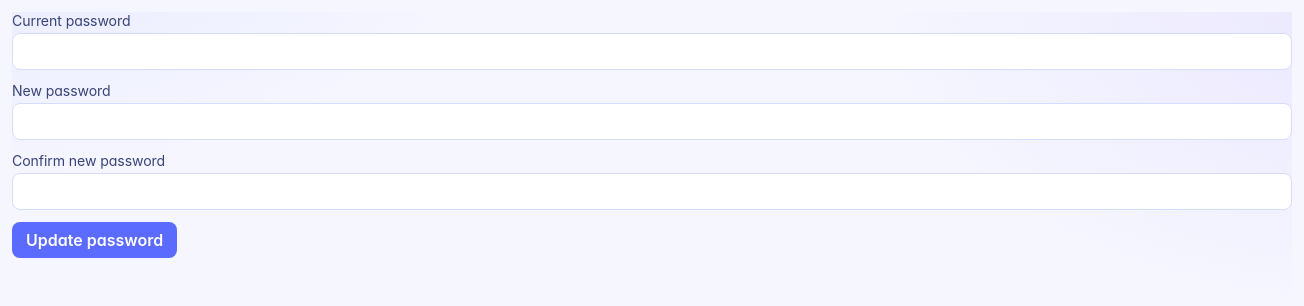
Test: PasswordChangeForm › surfaces 429 as a wait-and-retry message
This screenshot has width=1304, height=306.
Type "password" into the password field labelled "Current password".
click(652, 52); type("password")  # box [12, 33, 1292, 70]
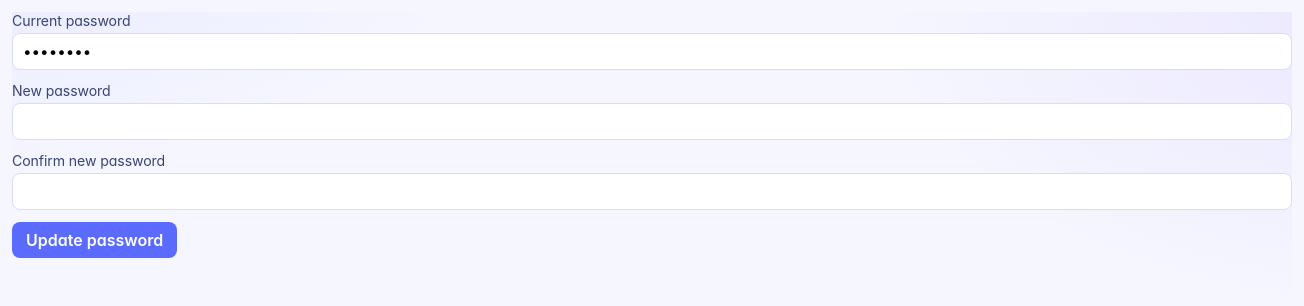
Type "new-strong-password-1" into the password field labelled "New password".
click(652, 122); type("new-strong-password-1")  # box [12, 103, 1292, 140]
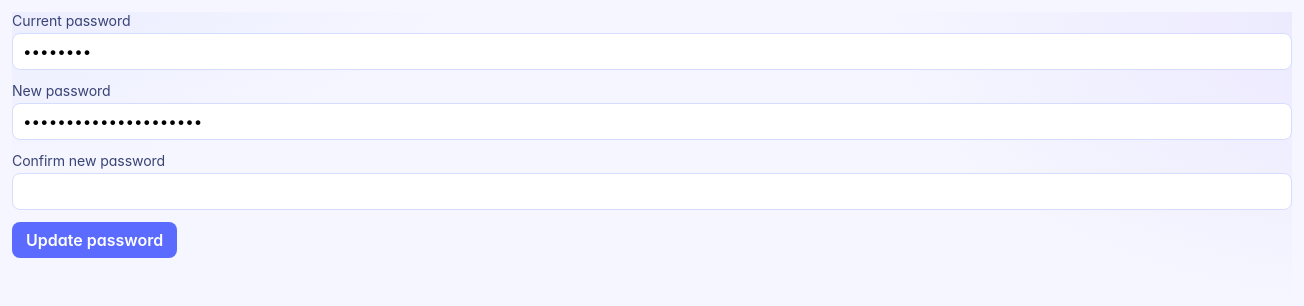
Type "new-strong-password-1" into the password field labelled "Confirm new password".
click(652, 192); type("new-strong-password-1")  # box [12, 173, 1292, 210]
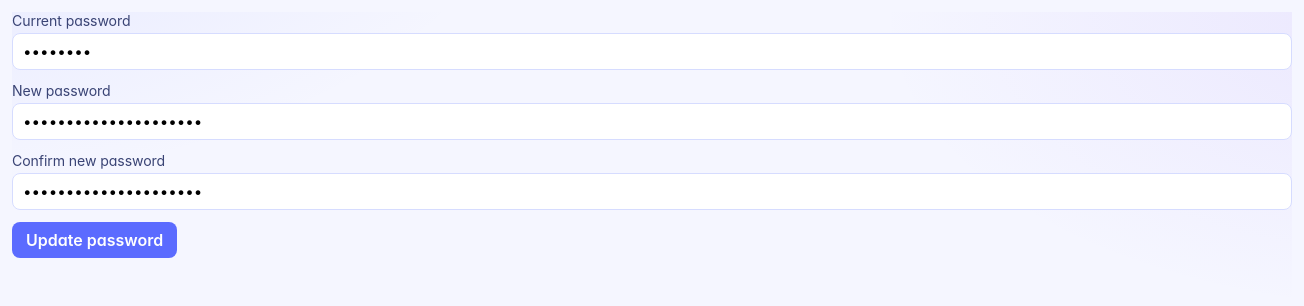
Click the button "Update password".
click(95, 240)  # box [12, 222, 177, 258]
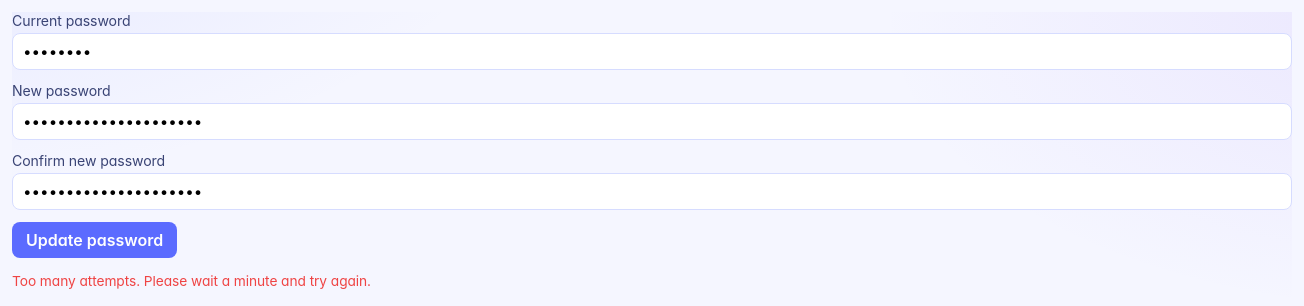
Expected: the message shows "wait a minute", [12, 273, 371, 289]
